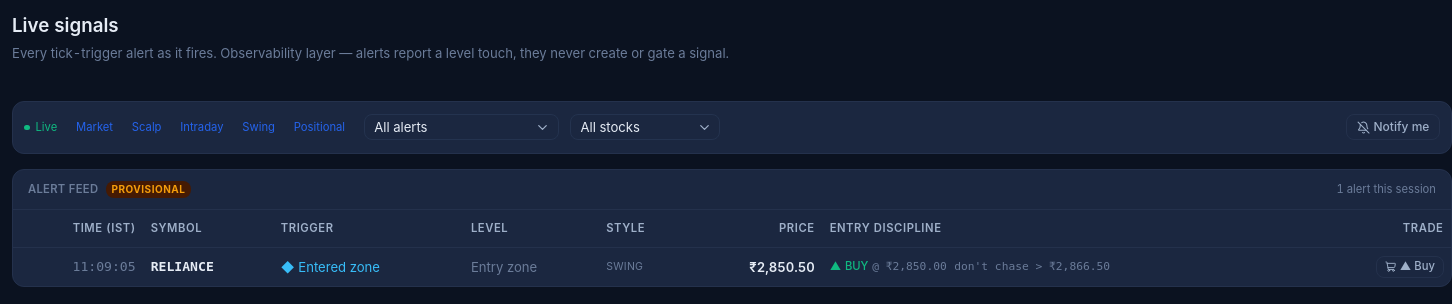
Test: LiveSignalsPage › offers the notification opt-in and requests permission only on click
Click the button "Notify me" at x=1393, y=127, box [1346,114,1440,140]
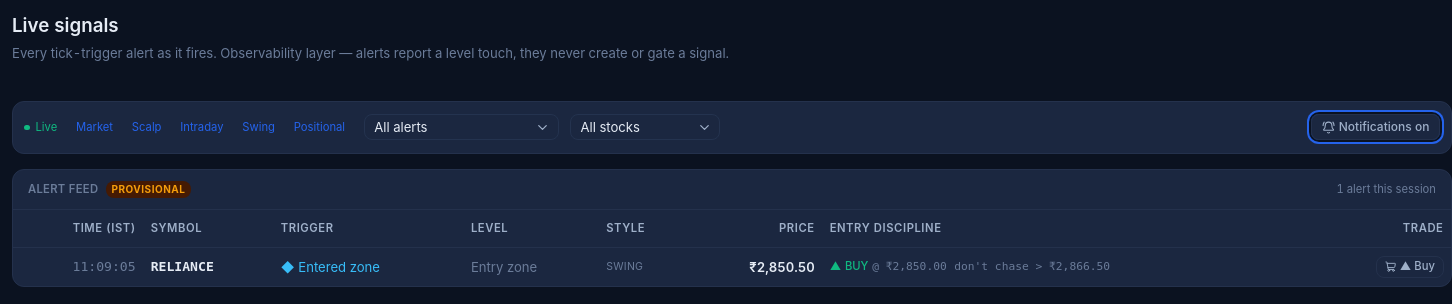
Check: the button "Notifications on" is shown, box [1312,114,1440,140]
